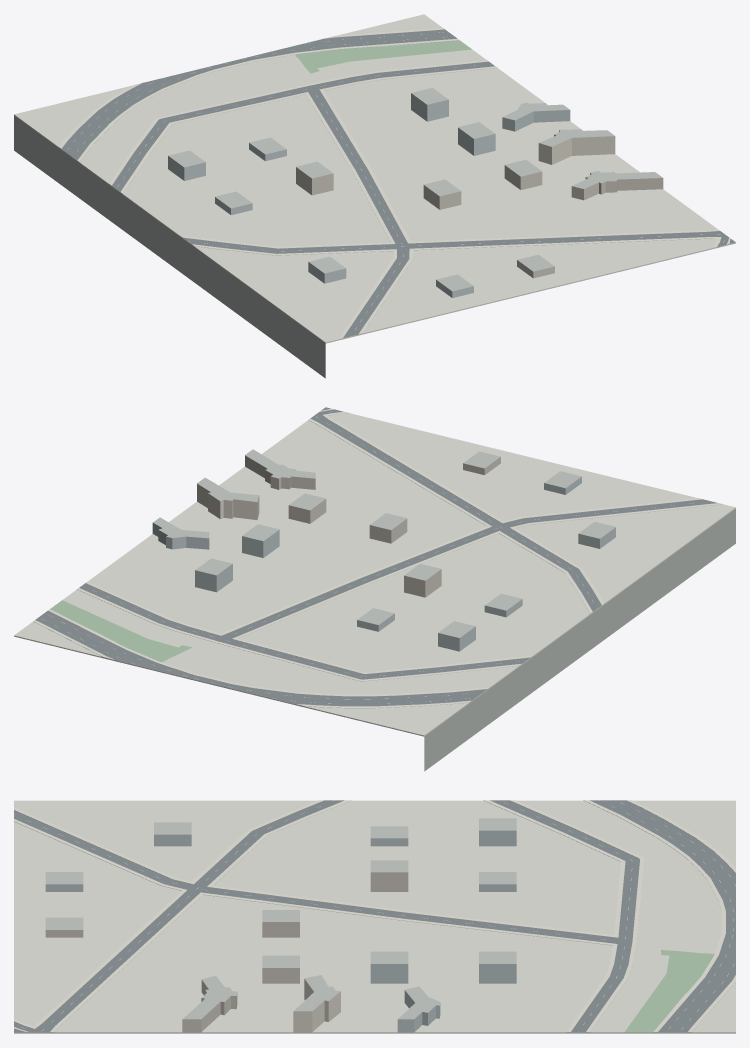
3 views of the same model, one above another, from view 1: azimuth 30°, elevation 25°; view 2: azimuth 150°, elevation 25°; view 3: azimuth 270°, elevation 25° (orthographic). The views are drawn at different scales.
Parts seen in each view (by area): view 1: city; view 2: city; view 3: city.
Boxes of the visible parts, bbox=[...] form: city: bbox=[14, 14, 735, 378]; city: bbox=[14, 407, 735, 771]; city: bbox=[14, 800, 735, 1033].
Bounding box in the file's own units: 380 × 48 × 500.
